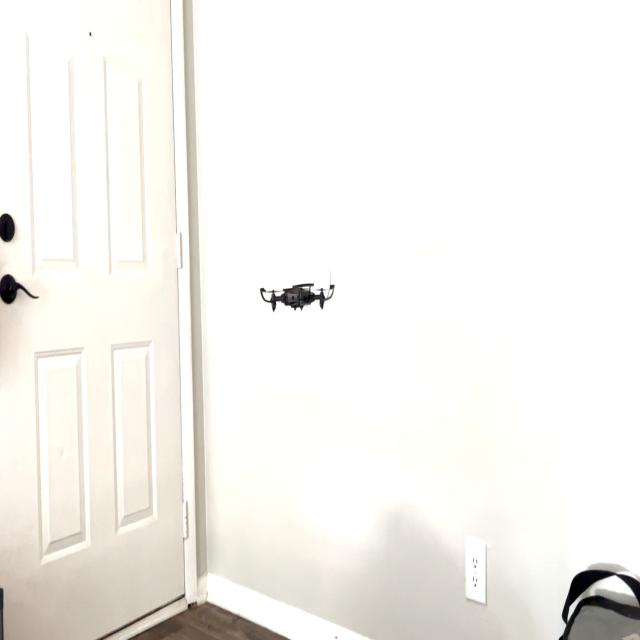drone: (249, 256, 345, 328)
